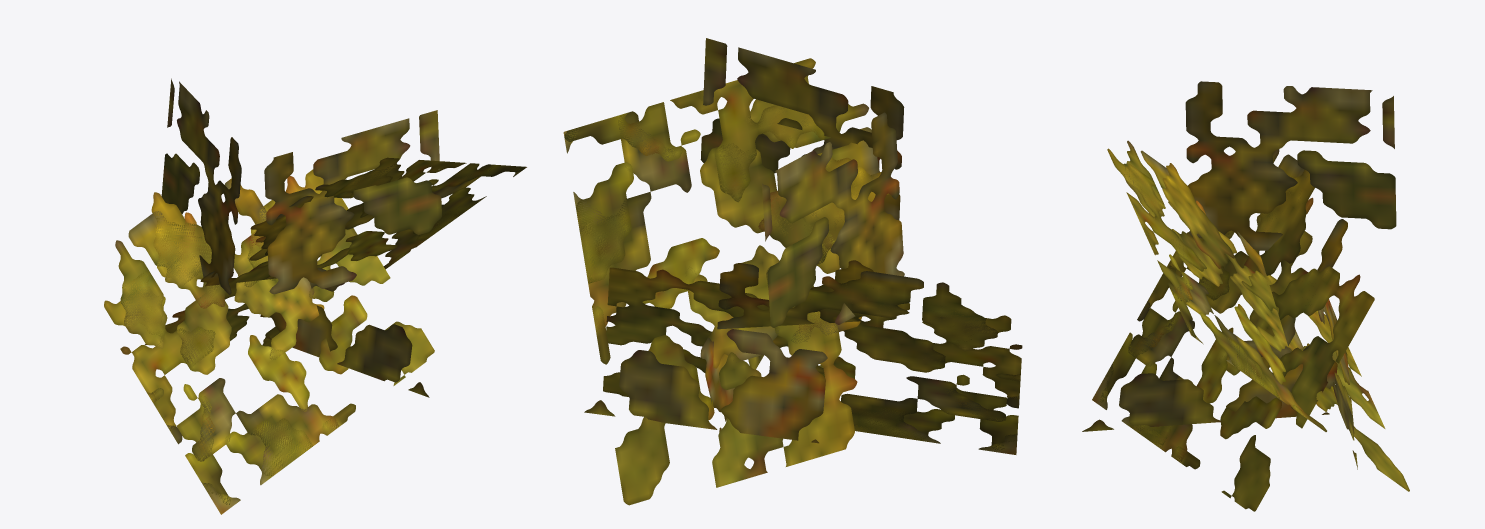
The model's file is beech_leaves_orangeish_slab.obj.
3 views of the same model, side by side, from view 1: azimuth 30°, elevation 25°; view 2: azimuth 150°, elevation 25°; view 3: azimuth 270°, elevation 25° (orthographic). The views are drawn at different scales.
Visible parts, largest first — view 1: cube; view 2: cube; view 3: cube.
Boxes of the visible parts, x1,y1,x2,y2 form: cube: [104, 78, 526, 514]; cube: [563, 38, 1022, 505]; cube: [1082, 81, 1409, 511].
Size of the model in its own units: 2.99 by 2.22 by 2.1.
